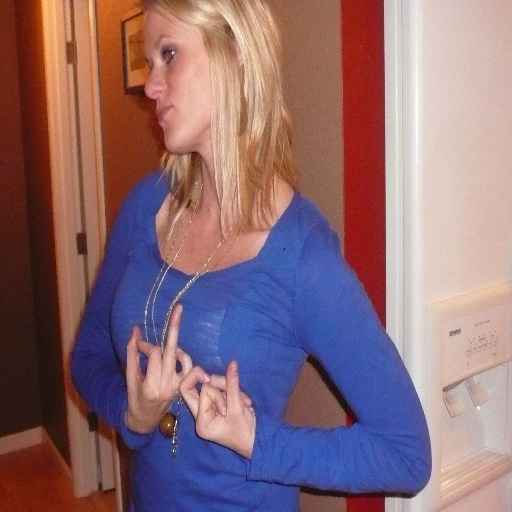hand: (166, 357, 255, 456), (125, 304, 193, 432)
